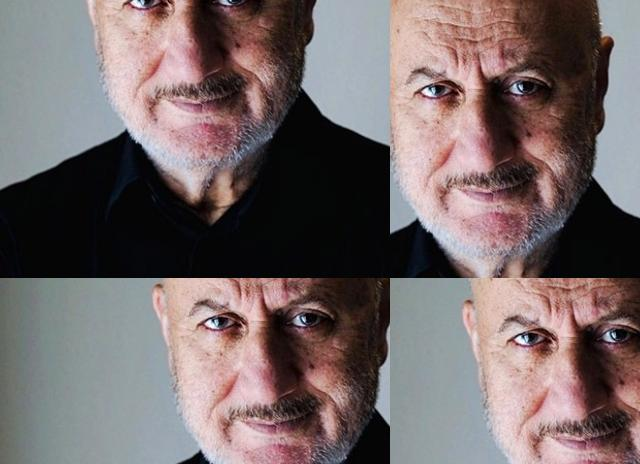crows_feet: (564, 198, 606, 238), (45, 18, 87, 46)
forehead: (489, 107, 556, 135), (404, 105, 458, 129), (527, 92, 573, 120), (472, 78, 516, 102), (542, 280, 584, 294), (544, 293, 554, 313)
frown_line: (566, 306, 582, 332)
gummy_smile: (218, 54, 242, 108), (526, 387, 546, 419), (618, 395, 640, 418)
masseter: (42, 148, 82, 192), (37, 74, 61, 134)
